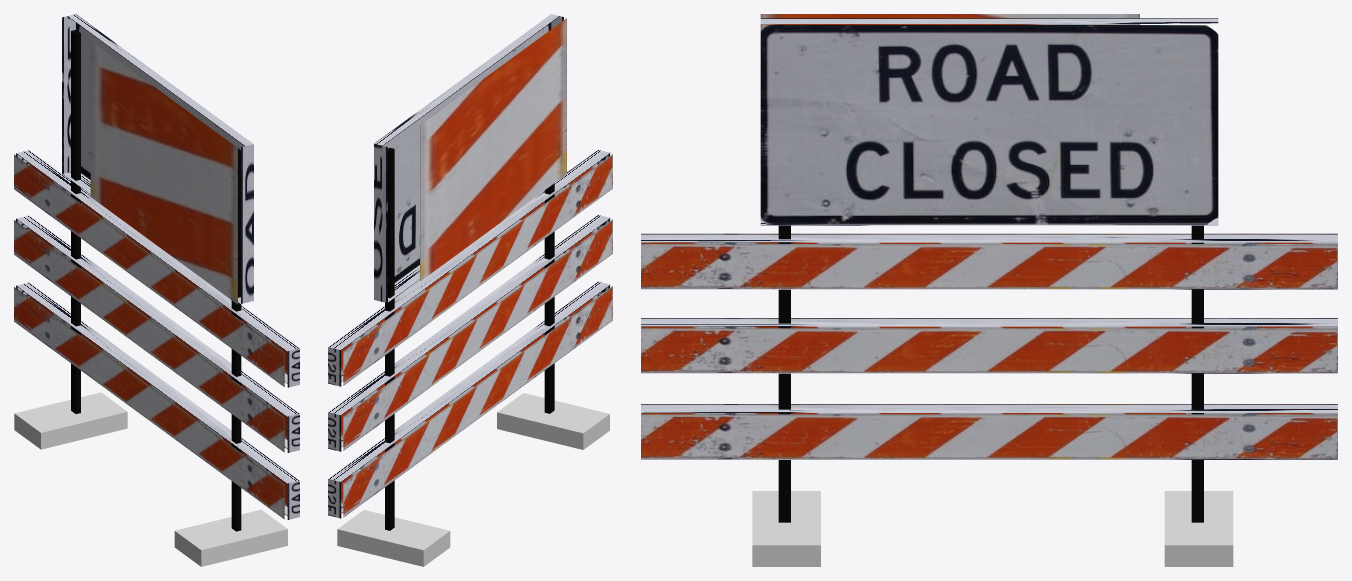
File: Barrier.fbx
3 renders of one model, left to right at view 1: azimuth 30°, elevation 25°; view 2: azimuth 150°, elevation 25°; view 3: azimuth 270°, elevation 25°, orthographic. The views are drawn at different scales.
Visible parts, largest first — view 1: Cube, Cube.002, Cube.003, Cube.001, Cube.006, Cube.007, Cube.005, Cube.004; view 2: Cube, Cube.003, Cube.002, Cube.001, Cube.007, Cube.006, Cube.005, Cube.004; view 3: Cube, Cube.001, Cube.002, Cube.003, Cube.007, Cube.006, Cube.004, Cube.005.
Part boxes in pixels (x1,y1,x2,y2): Cube: (62, 14, 253, 304); Cube.002: (14, 215, 299, 452); Cube.003: (14, 282, 299, 519); Cube.001: (14, 150, 299, 387); Cube.006: (174, 509, 287, 566); Cube.007: (14, 392, 127, 449); Cube.005: (71, 30, 80, 413); Cube.004: (231, 148, 241, 531); Cube: (374, 14, 566, 303); Cube.003: (328, 281, 612, 518); Cube.002: (328, 215, 612, 451); Cube.001: (328, 150, 612, 386); Cube.007: (337, 510, 450, 566); Cube.006: (497, 393, 609, 449); Cube.005: (385, 148, 394, 530); Cube.004: (544, 183, 554, 413); Cube: (760, 14, 1218, 225); Cube.001: (641, 233, 1337, 289); Cube.002: (641, 318, 1337, 373); Cube.003: (641, 404, 1337, 459); Cube.007: (1164, 491, 1233, 566); Cube.006: (752, 491, 820, 566); Cube.004: (778, 225, 790, 522); Cube.005: (1191, 225, 1203, 522).
Size of the model in its own units: 121 by 545 by 657.
5 materials, 3 textured.
